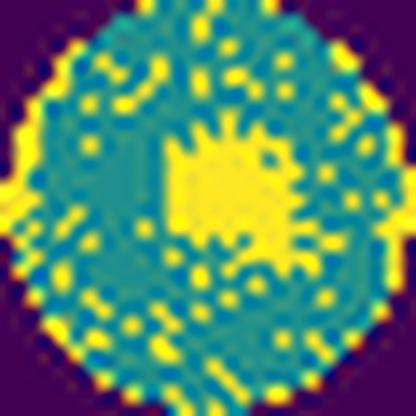Center: (167, 112, 322, 277)
